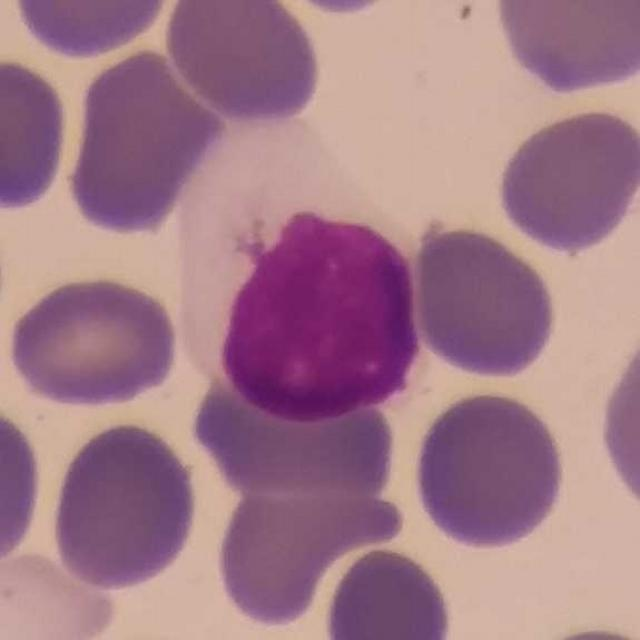Monocyte: (170, 116, 434, 433)
RBC: (60, 44, 228, 240), (209, 471, 401, 632), (185, 367, 404, 502), (44, 416, 202, 594), (407, 386, 571, 554), (406, 219, 562, 383), (4, 269, 182, 411), (492, 104, 640, 257), (160, 0, 326, 126), (489, 0, 640, 99), (318, 542, 458, 640), (0, 53, 73, 215), (0, 545, 122, 639), (8, 0, 180, 61), (594, 312, 640, 523), (0, 394, 48, 578), (266, 0, 414, 19), (520, 620, 636, 640)
